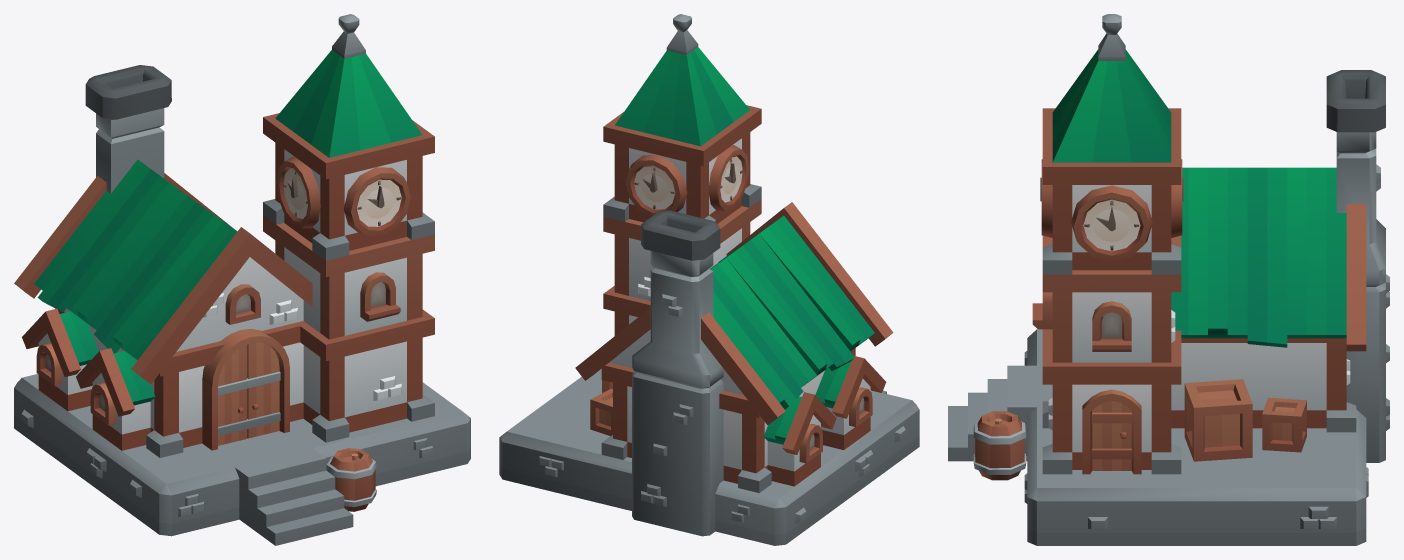
Rendered from building_townhall_green.glb.
The picture shows the model from 3 angles, left to right: view 1: azimuth 30°, elevation 25°; view 2: azimuth 150°, elevation 25°; view 3: azimuth 270°, elevation 25°; orthographic projection. The views are drawn at different scales.
Parts seen in each view (by area): view 1: building_townhall_green; view 2: building_townhall_green; view 3: building_townhall_green.
Boxes of the visible parts, left/top/right/bottom form: building_townhall_green: left=14, top=14, right=470, bottom=545; building_townhall_green: left=499, top=14, right=919, bottom=545; building_townhall_green: left=948, top=14, right=1389, bottom=545.
Bounding box in the file's own units: 1.43 × 1.89 × 1.56.
1 material, 1 textured.
